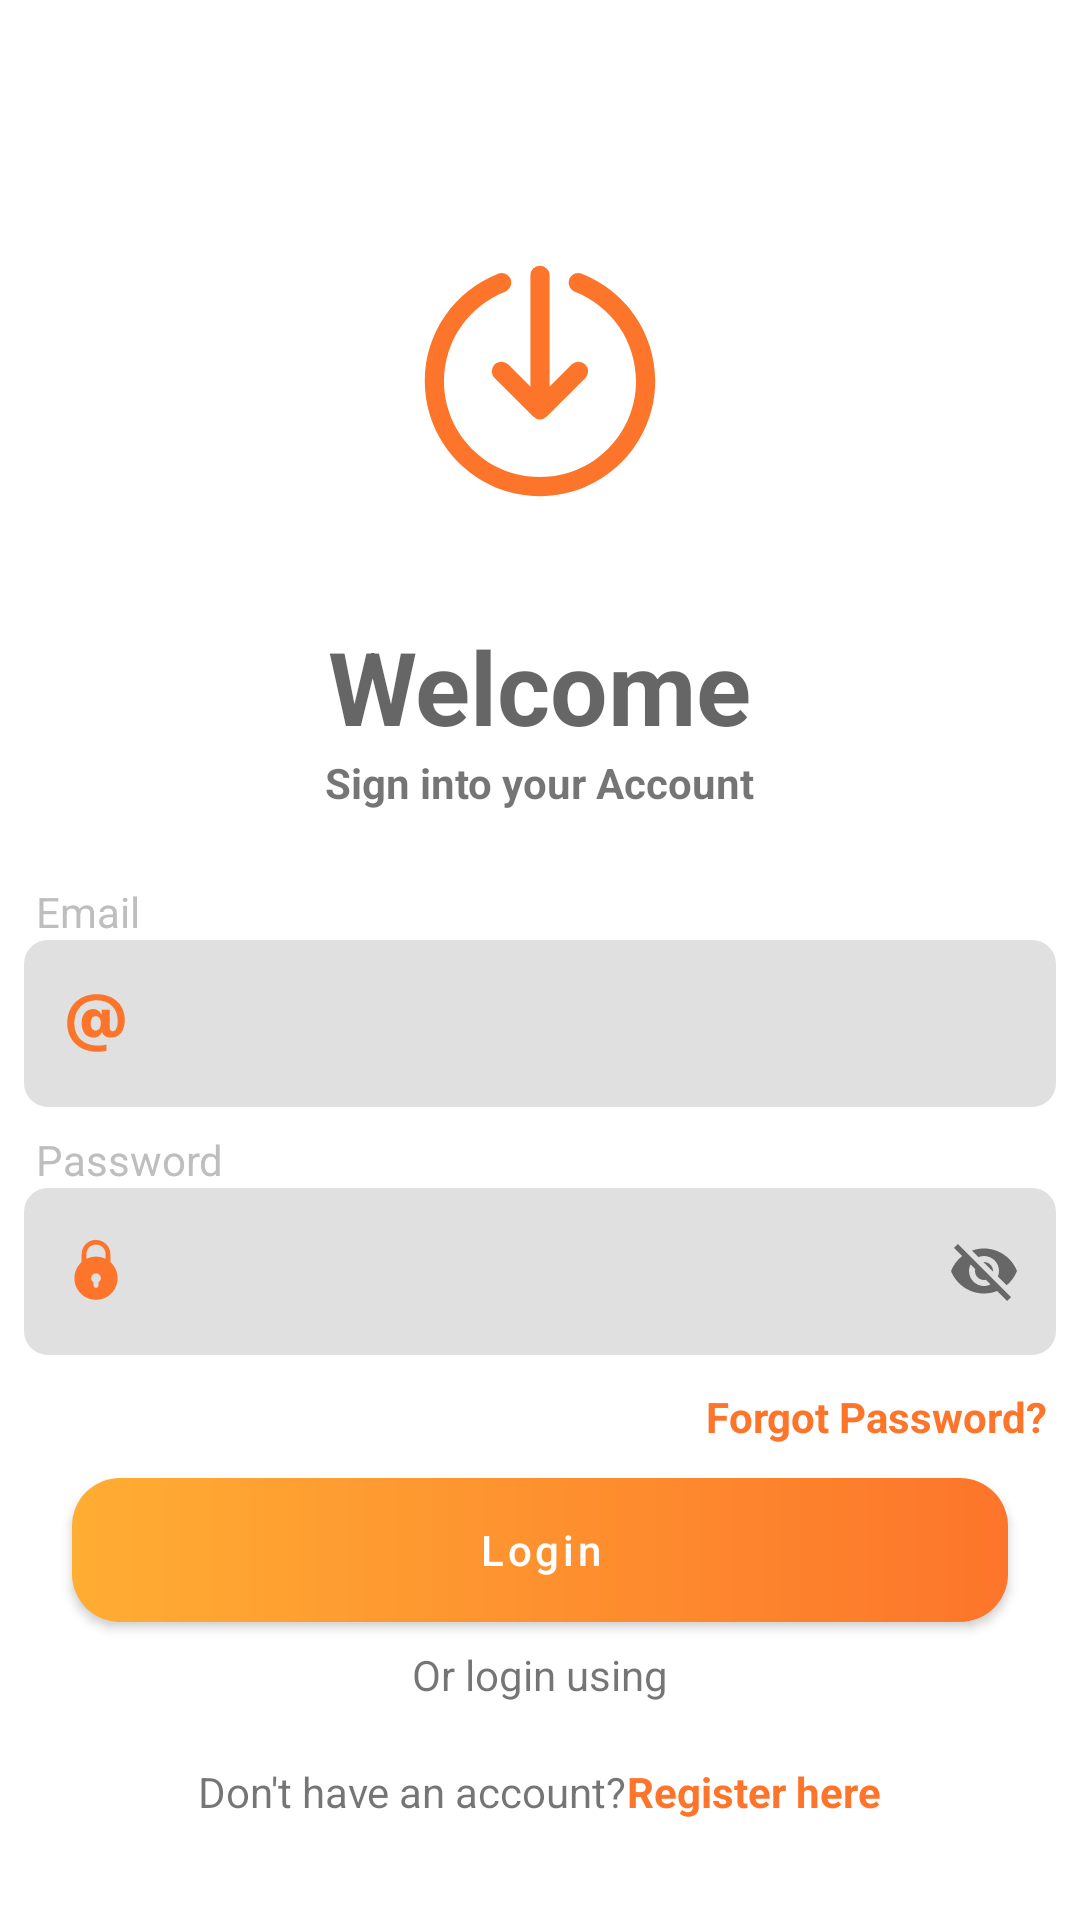

Icons on this 1080 × 1920 Android screen, each with its box as (x1, y1, x2, y2):
signin: (424, 265, 656, 497)
